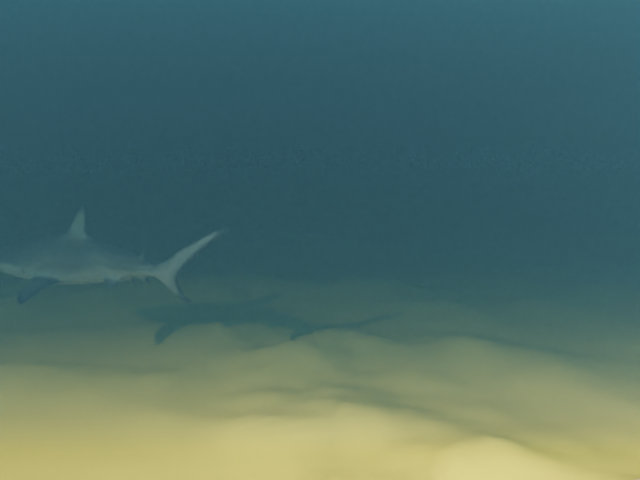Carribean Shark.001: (0, 206, 231, 304)
